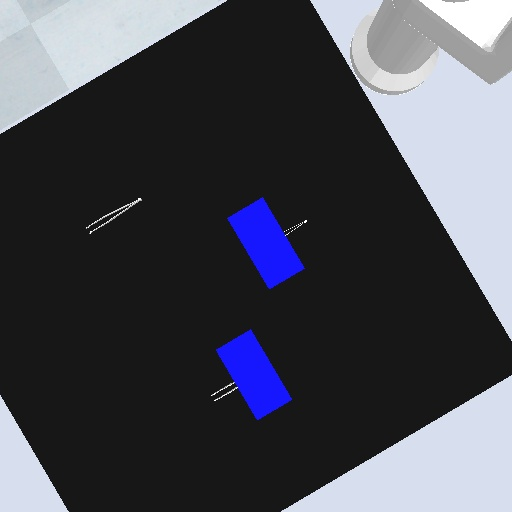pinza: (82, 194, 145, 236), (209, 380, 240, 404), (282, 218, 310, 240)
